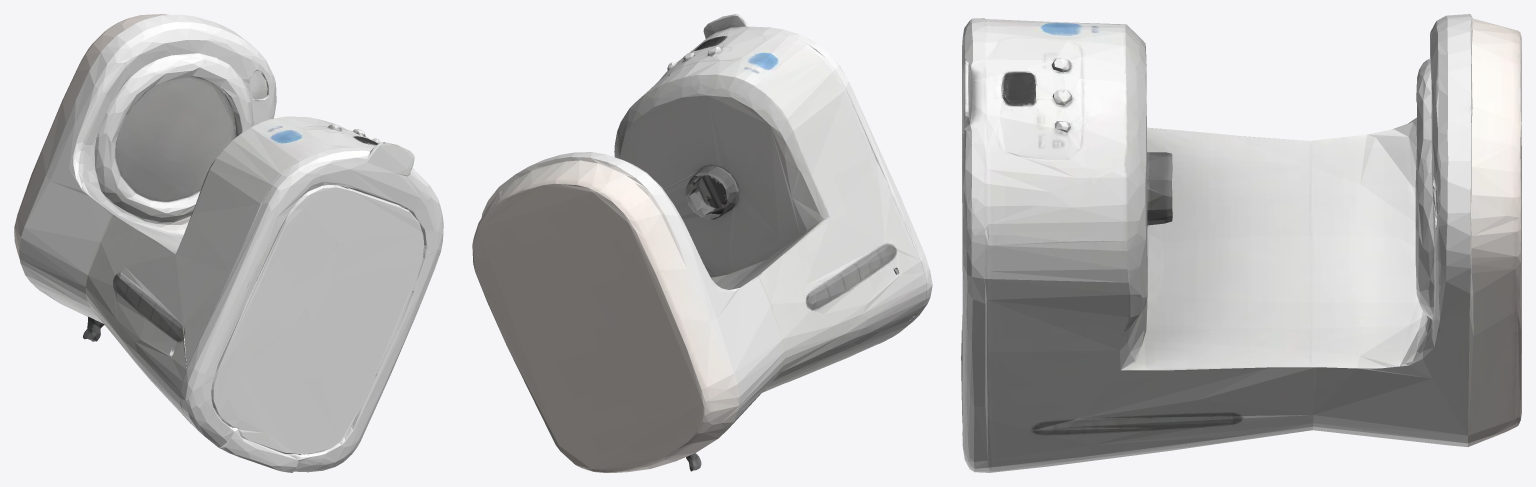
The model's file is bella_cm.glb.
3 views of the same model, side by side, from view 1: azimuth 30°, elevation 25°; view 2: azimuth 150°, elevation 25°; view 3: azimuth 270°, elevation 25° (orthographic). The views are drawn at different scales.
Parts seen in each view (by area): view 1: geometry_0; view 2: geometry_0; view 3: geometry_0.
Part boxes in pixels (left/top/right/bottom): geometry_0: left=14, top=14, right=443, bottom=472; geometry_0: left=472, top=14, right=932, bottom=472; geometry_0: left=961, top=14, right=1521, bottom=472.
Bounding box in the file's own units: 0.2283 × 0.2664 × 0.3049.
Materials: 1 (1 with a texture image).
